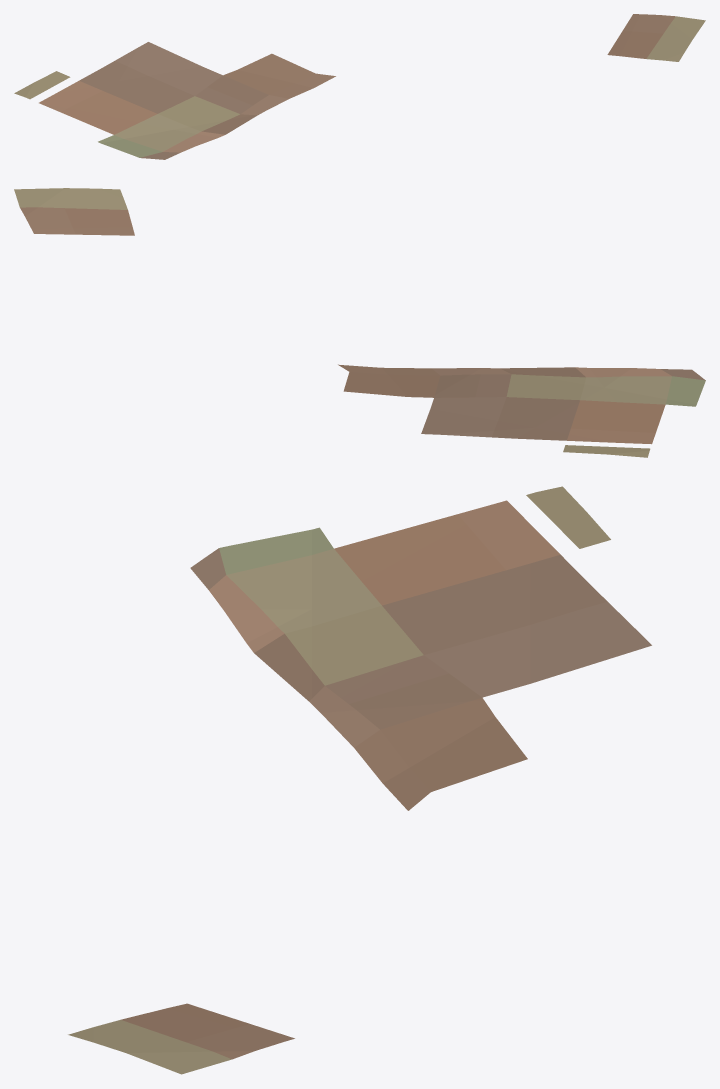
The model's file is farm_-5_7_soil.glb.
3 views of the same model, one above another, from view 1: azimuth 30°, elevation 25°; view 2: azimuth 150°, elevation 25°; view 3: azimuth 270°, elevation 25° (orthographic). The views are drawn at different scales.
Parts seen in each view (by area): view 1: geometry_0; view 2: geometry_0; view 3: geometry_0.
Part boxes in pixels (x1,y1,x2,y2): geometry_0: [14, 14, 705, 159]; geometry_0: [14, 188, 705, 457]; geometry_0: [68, 486, 651, 1074].
Size of the model in its own units: 505 by 19.79 by 214.
